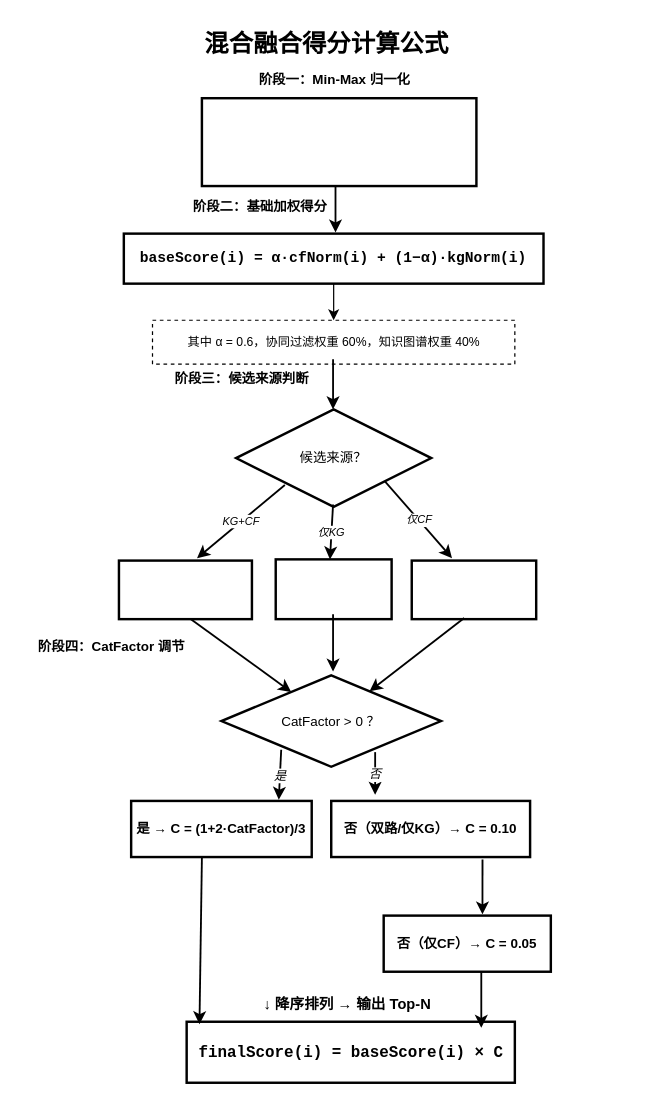
The diagram is 651 pixels wide and 1104 high, and some of its shapes have lost their labels. The box of each missing label's shape, as (x1, y1, x2, y2) in pixels:
cfNorm(i) = CF(i) ÷ max(CF) kgNorm(i) = KG(i) ÷ max(KG) 均映射至 [0, 1]: (200, 96, 477, 187)
KG + CF 双路命中: (117, 559, 253, 620)
仅 CF 协同独有: (410, 559, 537, 620)
仅 KG 图谱独有: (274, 558, 392, 620)
